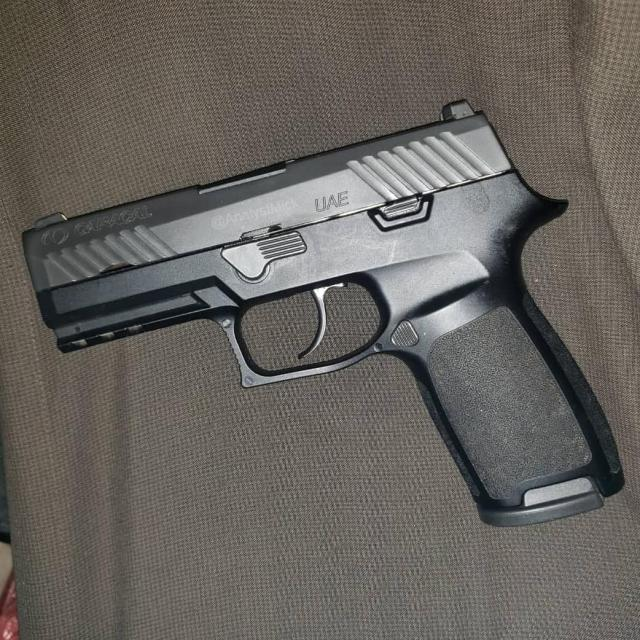Gun: (17, 92, 632, 520)
